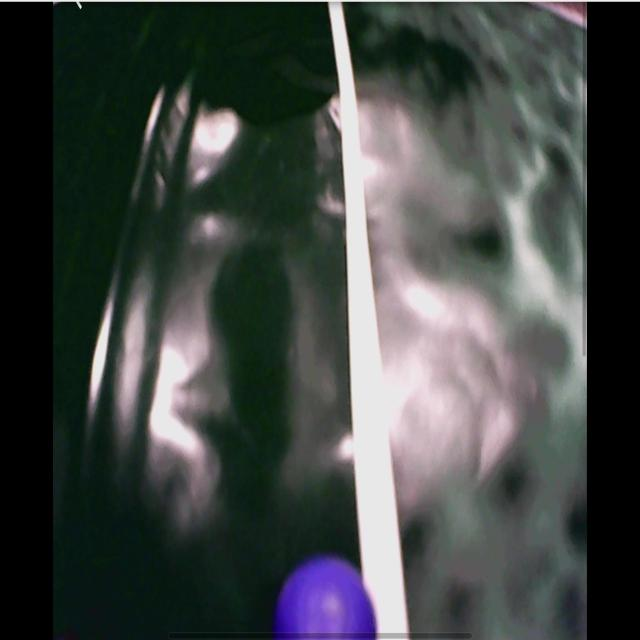ball: (277, 562, 379, 638)
